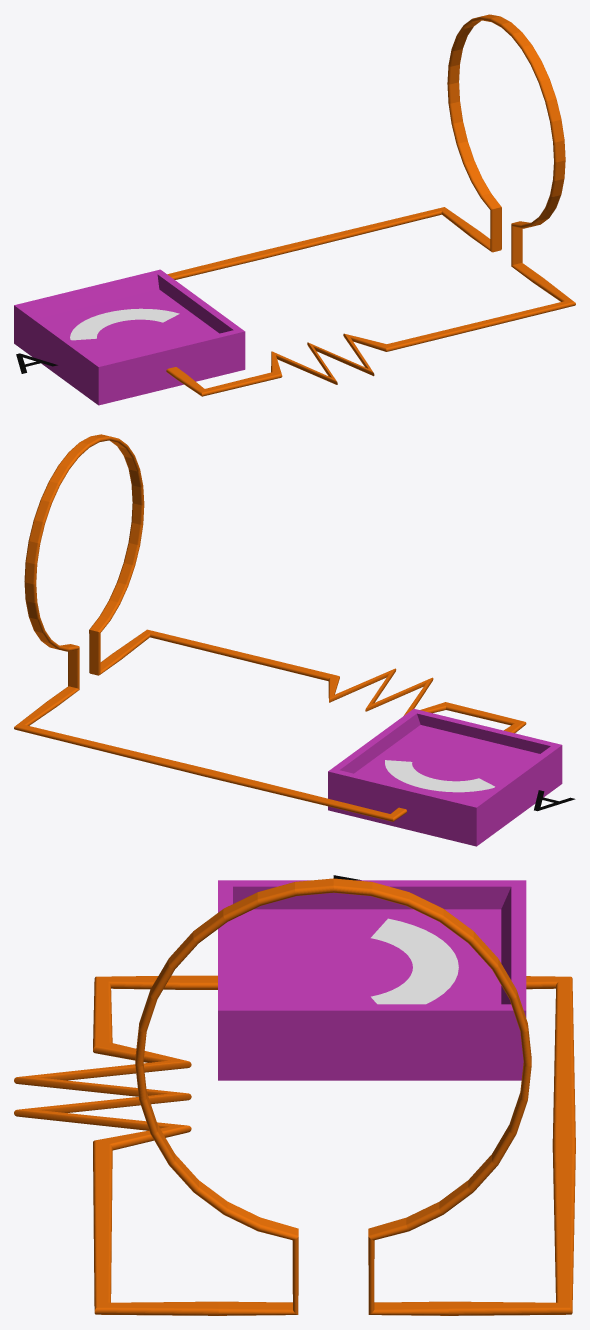
File: exp2 circuito.glb
3 views of the same model, one above another, from view 1: azimuth 30°, elevation 25°; view 2: azimuth 150°, elevation 25°; view 3: azimuth 270°, elevation 25° (orthographic). The views are drawn at different scales.
Parts seen in each view (by area): view 1: Cube, Circle, Torus.001; view 2: Cube, Circle, Torus.001; view 3: Cube, Circle, Torus.001.
Boxes of the visible parts, x1,y1,x2,y2 form: Cube: (14,269,245,405); Circle: (166,14,575,396); Torus.001: (70,308,179,340); Cube: (328,709,562,846); Circle: (14,434,526,821); Torus.001: (385,760,494,792); Cube: (218,880,526,1080); Circle: (14,878,575,1315); Torus.001: (371,918,458,1004).
Bounding box in the file's own units: 26.77 × 13.14 × 14.57.
